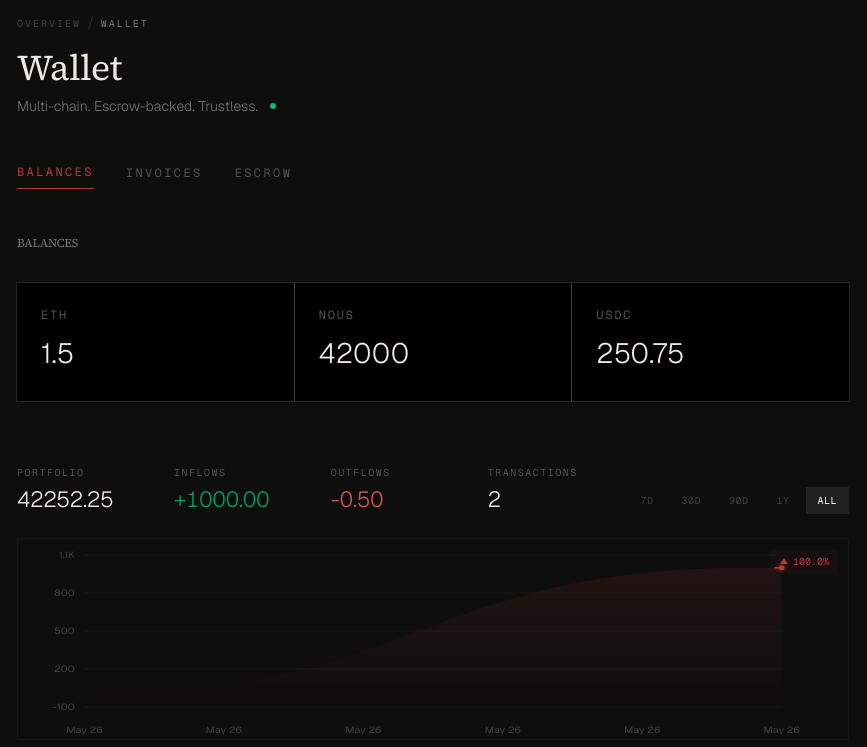
Test: Wallet page › Invoices tab › switches to invoices tab
Expected: the heading "Balances" is shown, [17,235,78,251]
Click the button "invoices" at (164, 177), box [126,164,203,189]
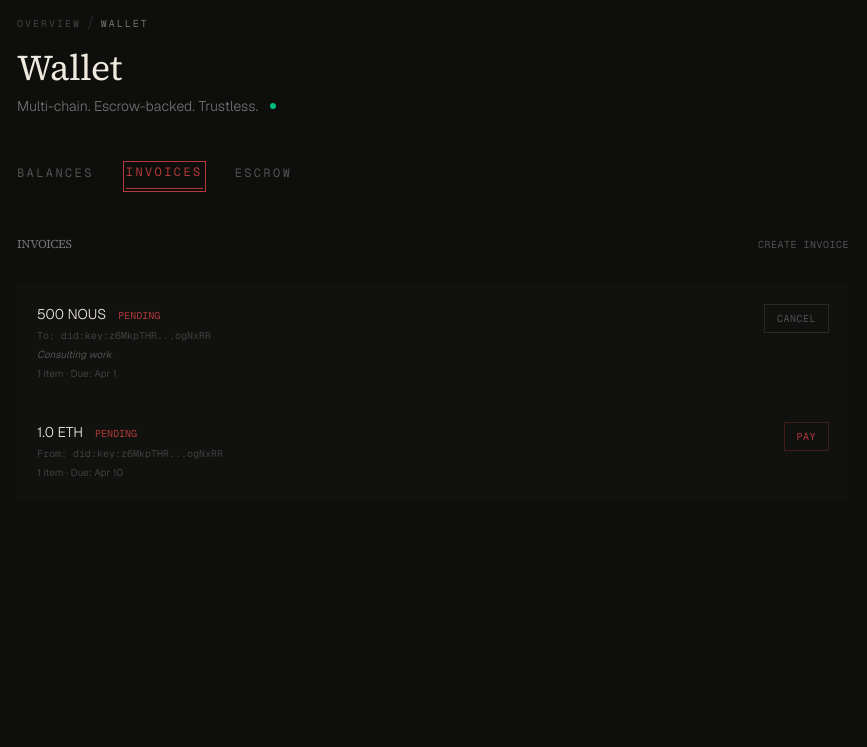
Expected: the heading "Invoices" is shown, [17,238,72,252]
